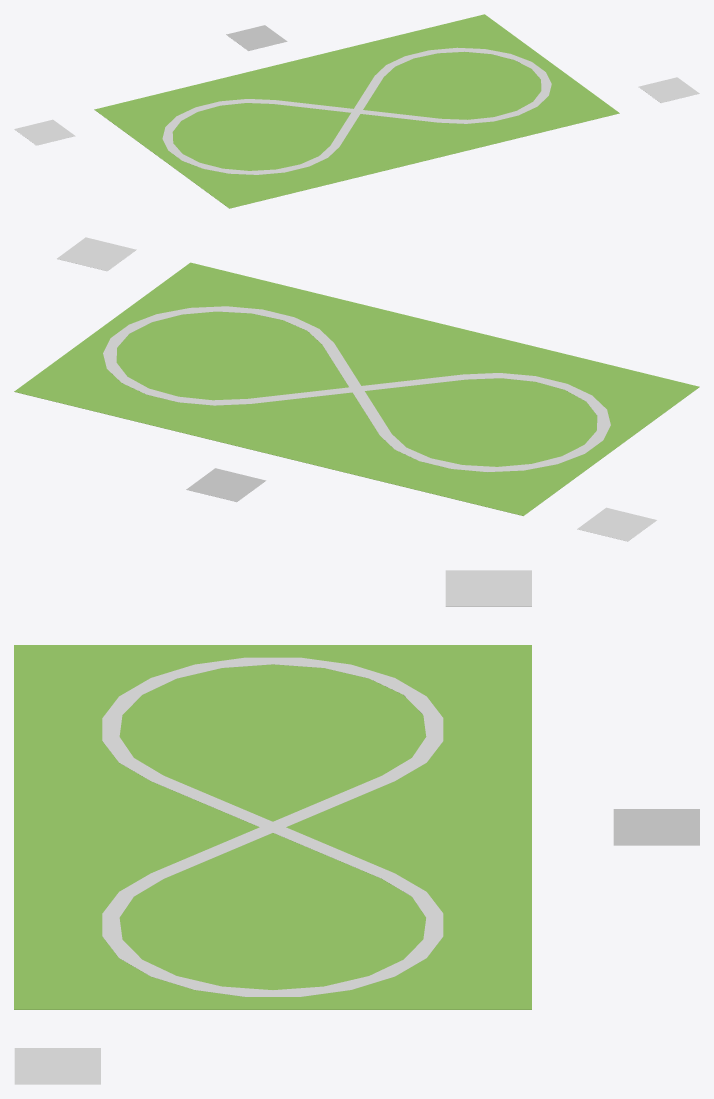
File: Stage_07_realscale.dae
3 renders of one model, top to bottom at view 1: azimuth 30°, elevation 25°; view 2: azimuth 150°, elevation 25°; view 3: azimuth 270°, elevation 25°, orthographic. The views are drawn at different scales.
Visible parts, largest first — view 1: RectanguloPocaProt, Circuito_en8_3, DropZone_002, DropZone_003, DropZone_001; view 2: RectanguloPocaProt, Circuito_en8_3, DropZone_001, DropZone_002, DropZone_003; view 3: RectanguloPocaProt, Circuito_en8_3, DropZone_002, DropZone_003, DropZone_001.
Part boxes in pixels (x1,y1,x2,y2): RectanguloPocaProt: (94, 14, 619, 208); Circuito_en8_3: (162, 47, 551, 174); DropZone_002: (14, 119, 75, 145); DropZone_003: (226, 25, 287, 50); DropZone_001: (638, 77, 699, 102); RectanguloPocaProt: (14, 262, 699, 515); Circuito_en8_3: (103, 306, 610, 472); DropZone_001: (57, 237, 136, 271); DropZone_002: (577, 507, 656, 541); DropZone_003: (186, 468, 265, 501); RectanguloPocaProt: (14, 645, 531, 1009); Circuito_en8_3: (102, 657, 443, 996); DropZone_002: (445, 570, 531, 606); DropZone_003: (613, 809, 699, 845); DropZone_001: (14, 1048, 100, 1084).
Bounding box in the file's own units: 142 × 80.15 × 0.0416.
